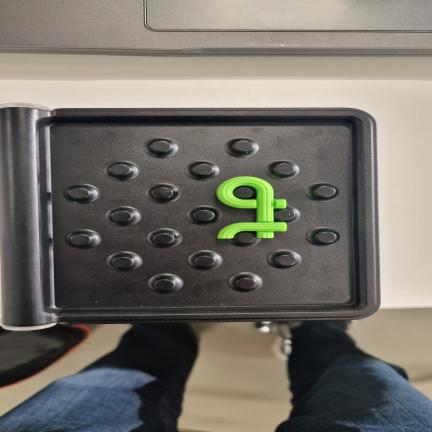K_YellowGreen: (217, 177, 286, 238)
board: (2, 108, 379, 326)
hinge: (0, 102, 55, 342)
pin: (150, 140, 172, 153), (68, 187, 90, 200), (314, 185, 336, 198), (275, 209, 296, 222), (194, 209, 215, 222), (276, 254, 297, 267), (236, 277, 257, 290), (111, 210, 133, 222), (69, 234, 91, 246), (153, 233, 175, 245), (315, 231, 337, 243), (195, 255, 215, 268), (232, 140, 253, 152), (192, 164, 213, 176), (110, 164, 131, 176), (152, 187, 173, 199), (234, 187, 255, 199), (235, 232, 256, 244), (113, 256, 134, 268), (274, 163, 294, 175), (155, 279, 175, 291)
